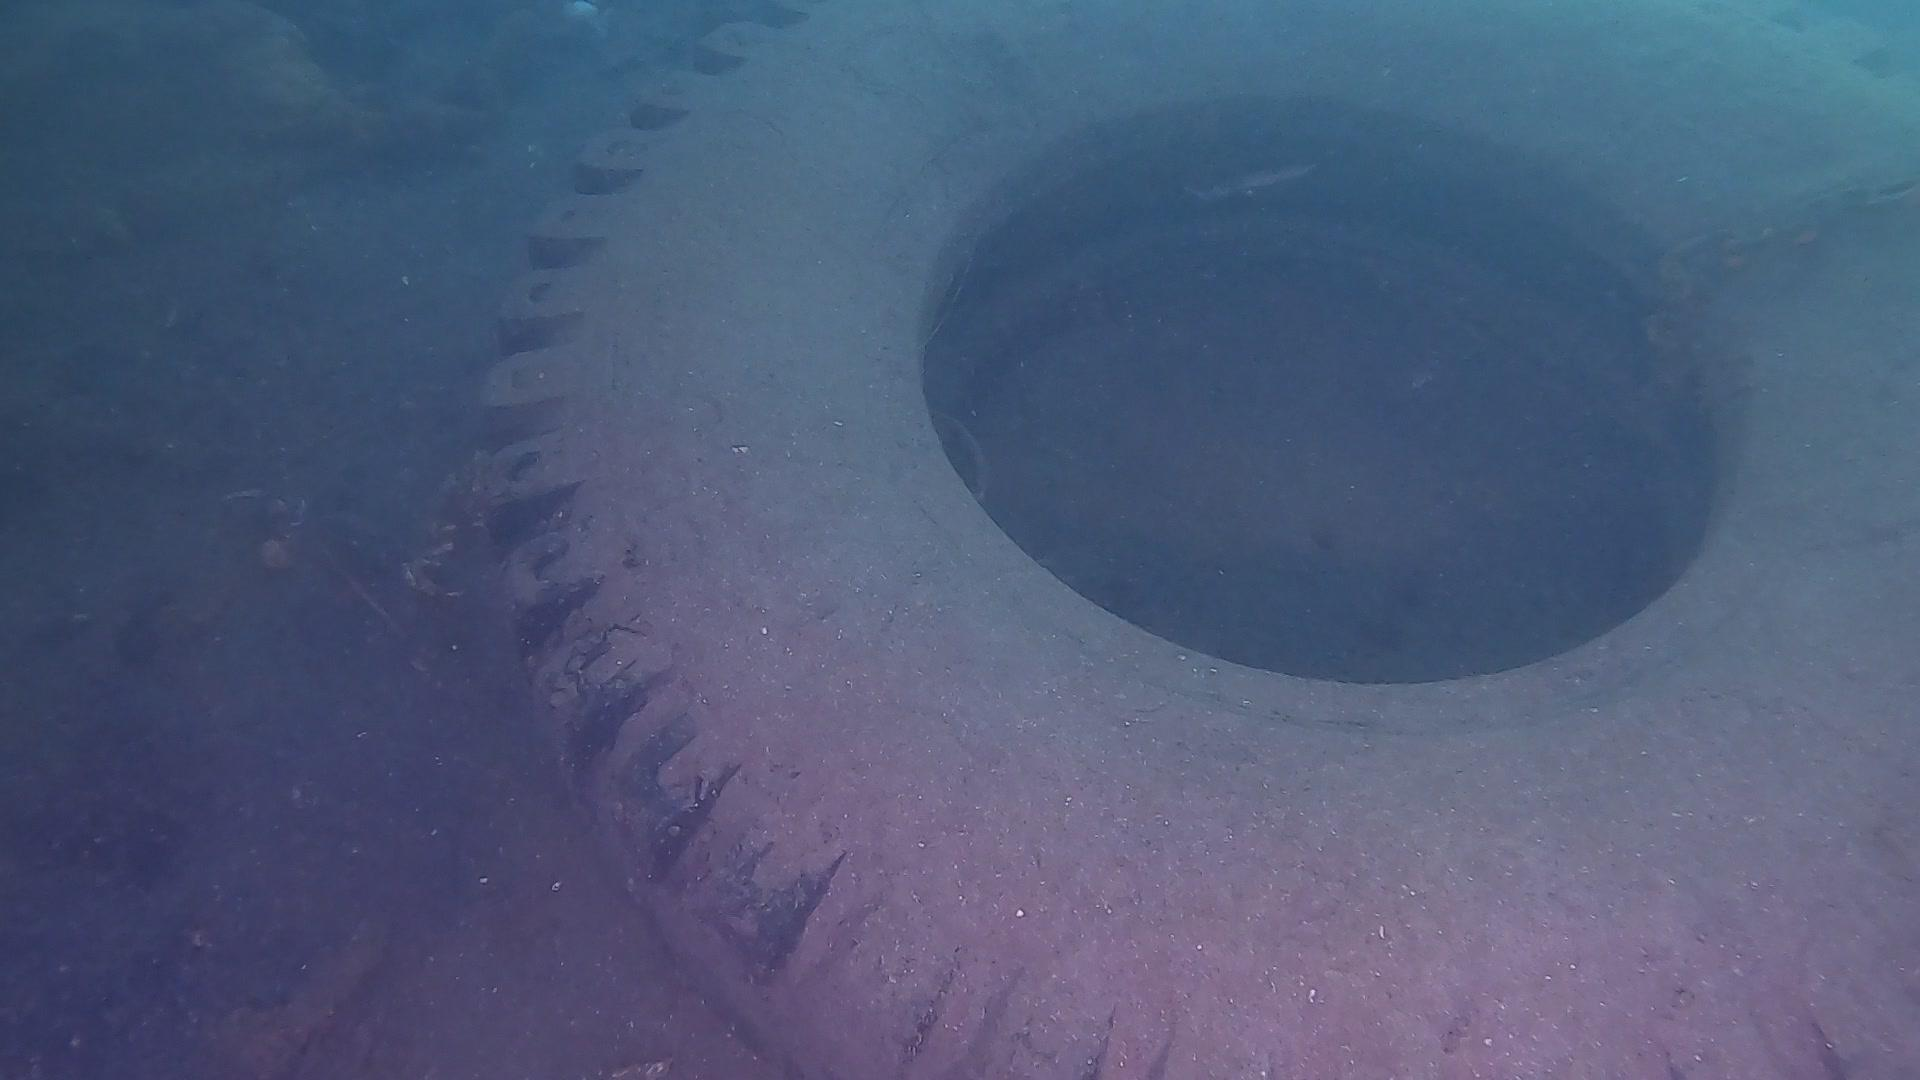tire: (468, 0, 1920, 1080)
